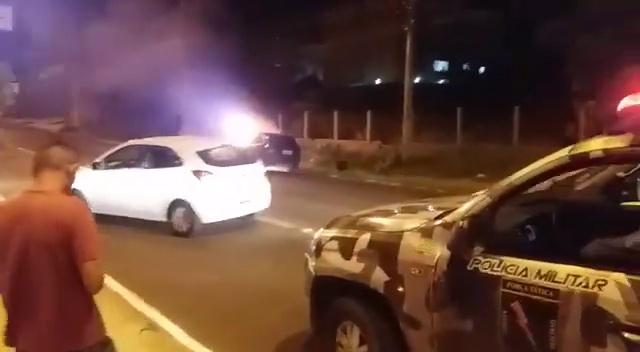fire: (222, 112, 265, 145)
